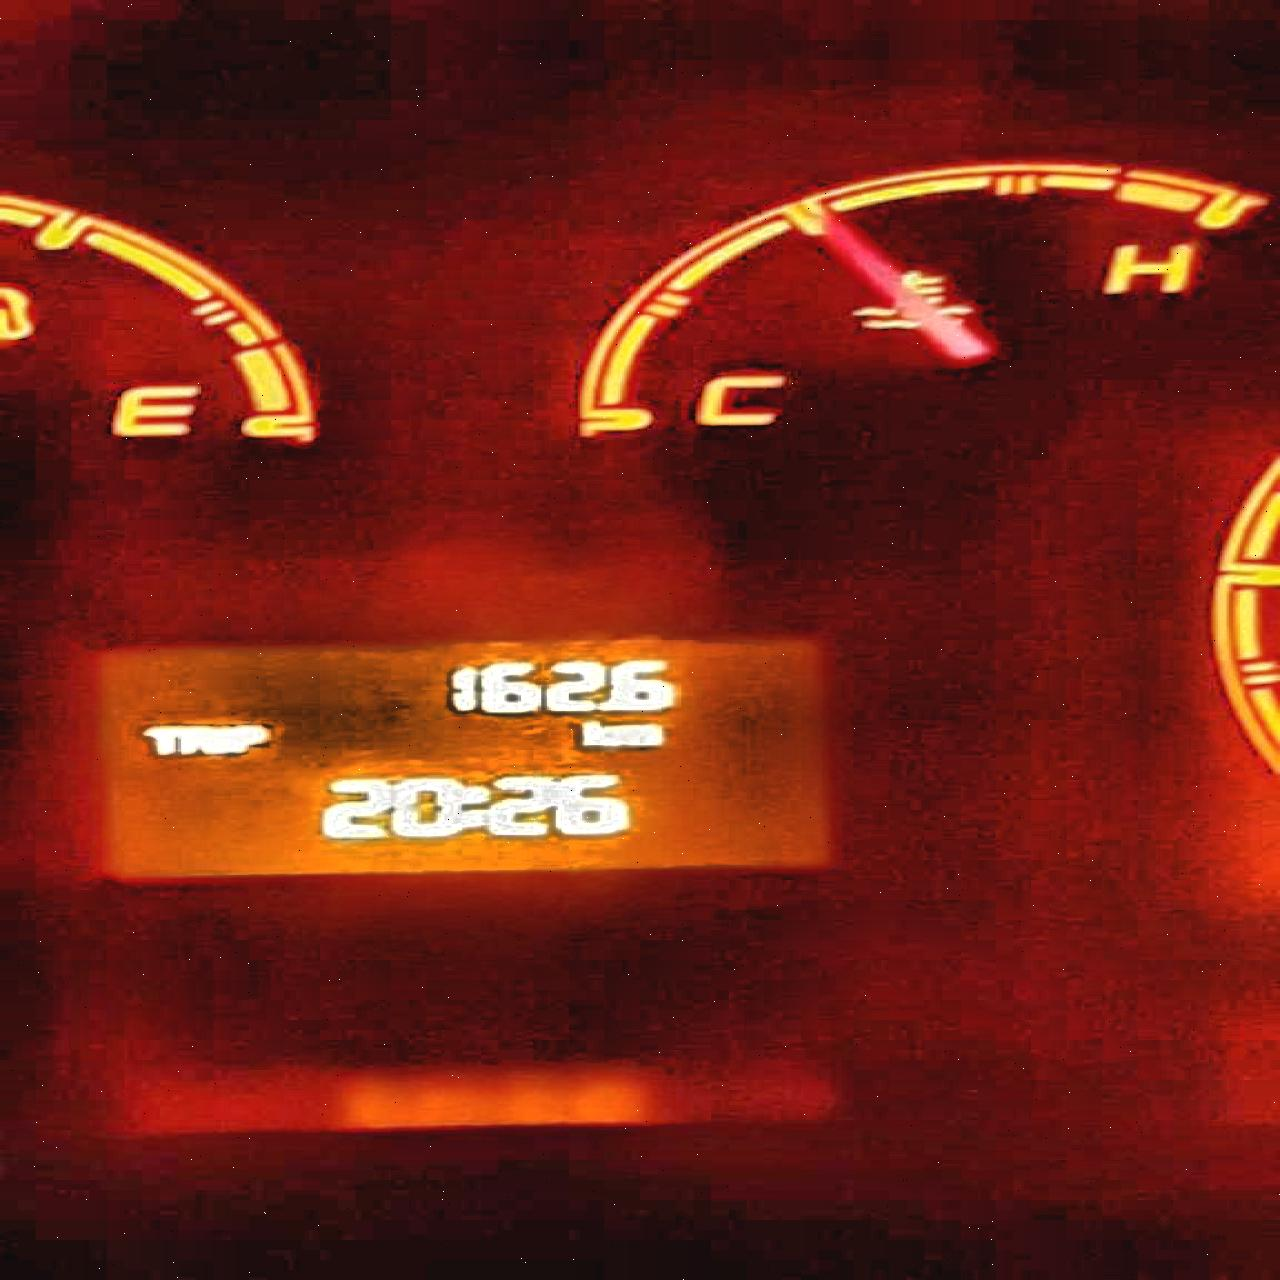-: (595, 694, 613, 714)
0: (393, 774, 458, 837)
1: (447, 662, 477, 713)
2: (318, 776, 387, 840), (489, 772, 553, 837), (543, 656, 607, 713)
6: (553, 771, 628, 837), (613, 659, 682, 712), (478, 661, 540, 713)
X: (615, 721, 667, 750), (461, 779, 486, 831), (178, 723, 213, 758), (142, 723, 178, 757), (236, 723, 273, 755), (580, 716, 615, 749), (213, 722, 236, 757)
odometer: (75, 629, 849, 883)
